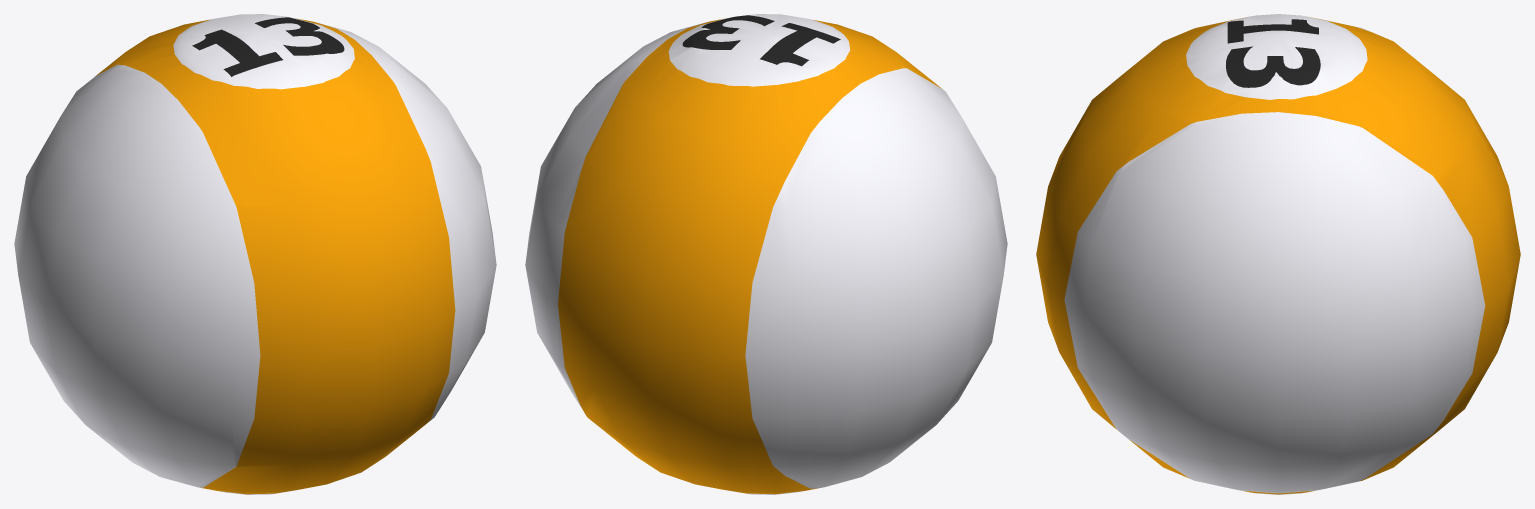
The model's file is 13ball.dae.
3 renders of one model, left to right at view 1: azimuth 30°, elevation 25°; view 2: azimuth 150°, elevation 25°; view 3: azimuth 270°, elevation 25°, orthographic.
Visible parts, largest first — view 1: Billiard_Ball__13_Orange_Striped (×6); view 2: Billiard_Ball__13_Orange_Striped (×6); view 3: Billiard_Ball__13_Orange_Striped (×5).
Boxes of the visible parts, x1=… form: Billiard_Ball__13_Orange_Striped (×6): x1=14, y1=14, x2=496, y2=494; Billiard_Ball__13_Orange_Striped (×6): x1=525, y1=14, x2=1007, y2=494; Billiard_Ball__13_Orange_Striped (×5): x1=1036, y1=14, x2=1520, y2=494.
Size of the model in its own units: 1.58 by 1.58 by 1.58.
